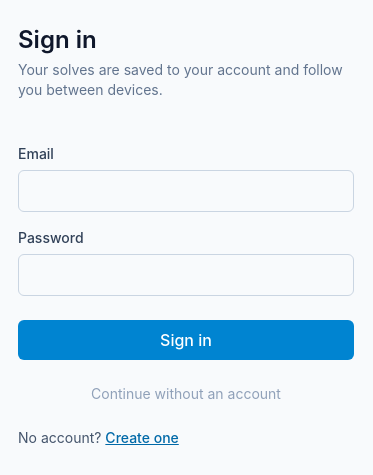
Test: LoginPage › rejects a malformed email without contacting the server
Type "not-an-email" into the field labelled "Email" at (186, 191), box [18,170,354,212]
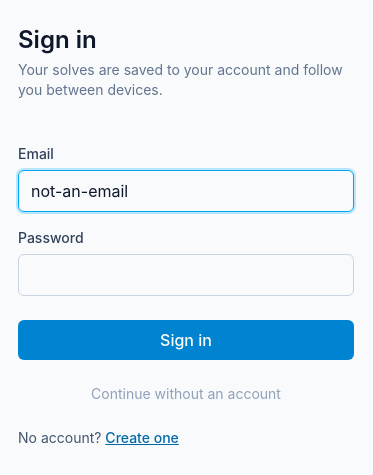
Type "some-password" into the password field labelled "Password" at (186, 275), box [18,254,354,296]
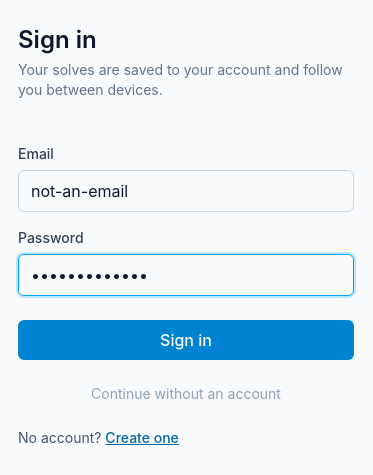
Click the button "Sign in" at (186, 340), box [18,320,354,360]
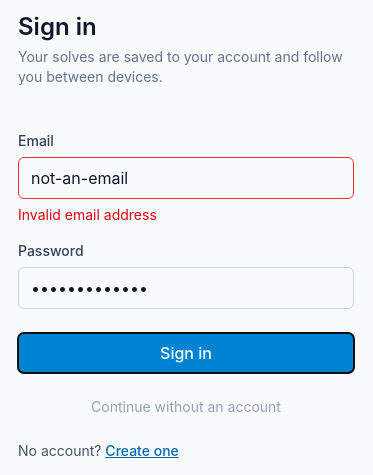
expect the text "Invalid email address" is shown: met, box [18,206,157,223]
